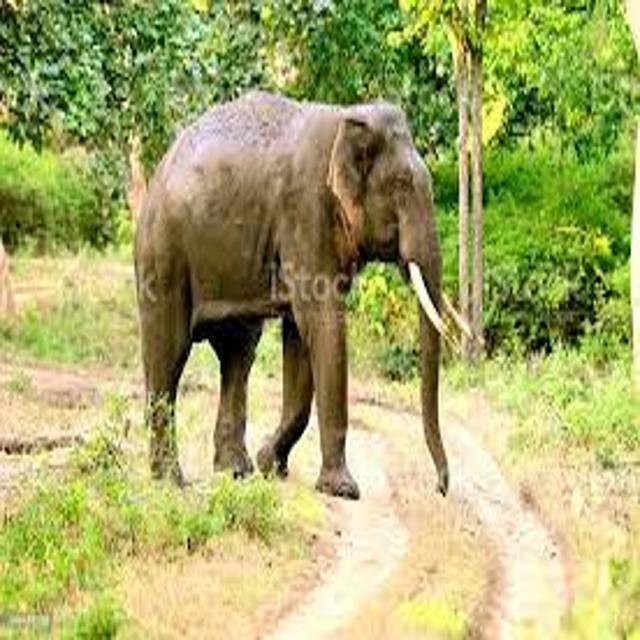Elephant: (108, 82, 488, 533)
